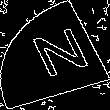N_S: (19, 24, 91, 86)
